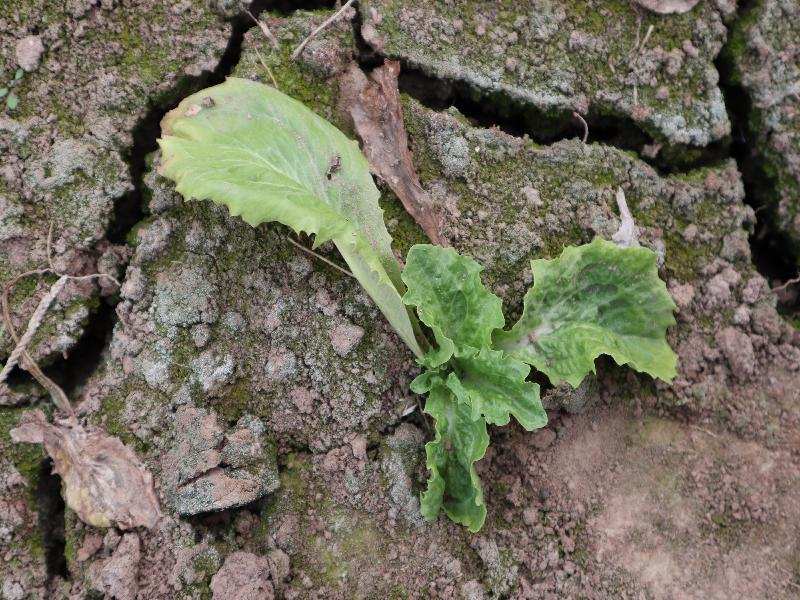lettuce: (155, 74, 677, 531)
